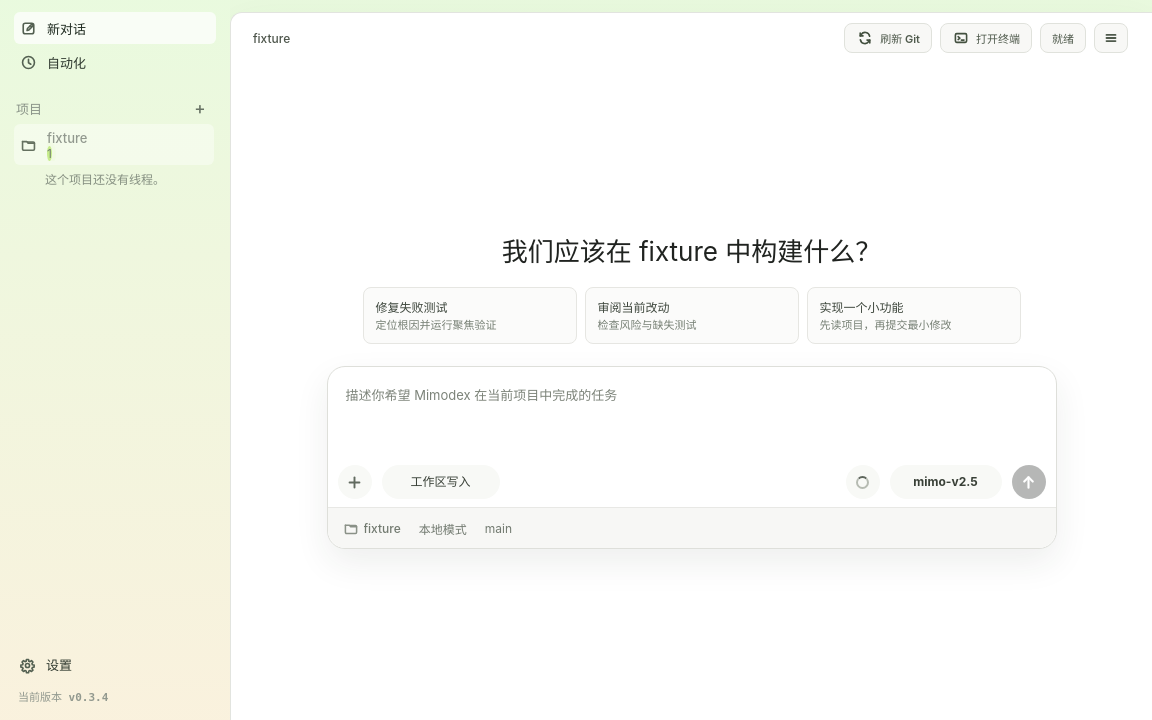
Mimodex 桌面壳 › 右侧只展示 Git 暂存区中的文件变更摘要
Click the button named "环境信息".
click(1111, 38)  # box [1094,23,1128,53]
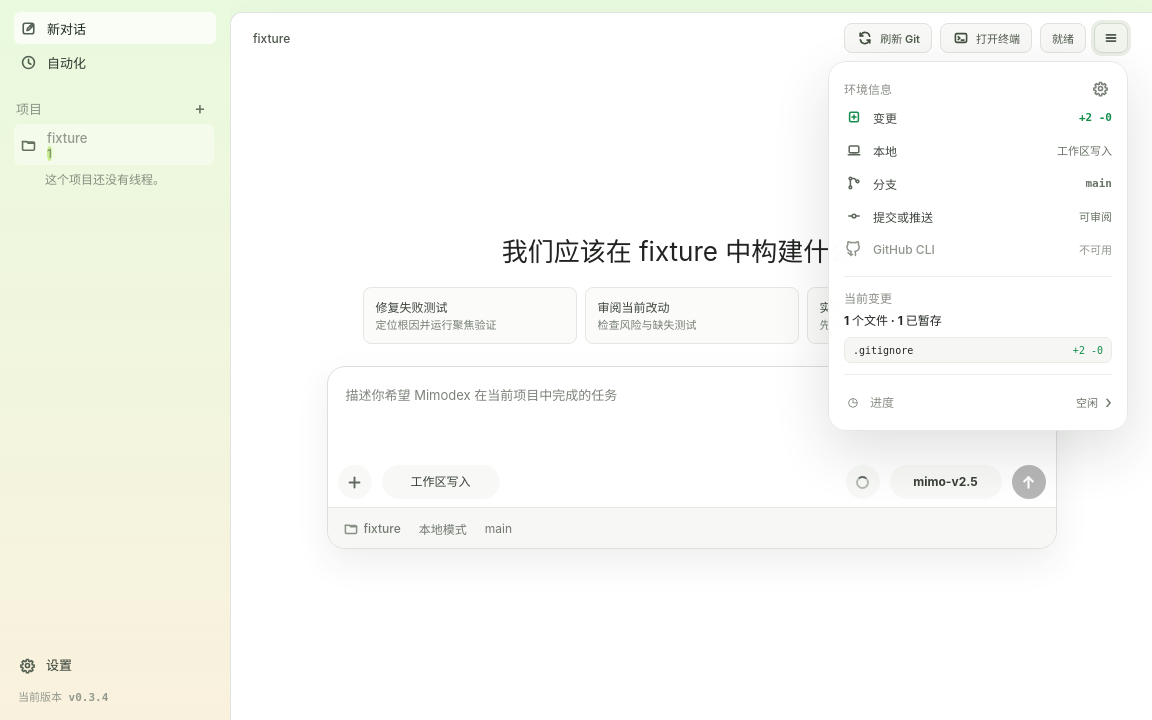
Expected: the text "1 个文件 · 1 已暂存" is shown, [844,313,942,328]
Expected: the text "+2 -0" is shown 2 times, [1079,110,1112,124]; [1073,344,1103,356]
Expected: the text ".gitignore" is shown, [853,344,913,356]
